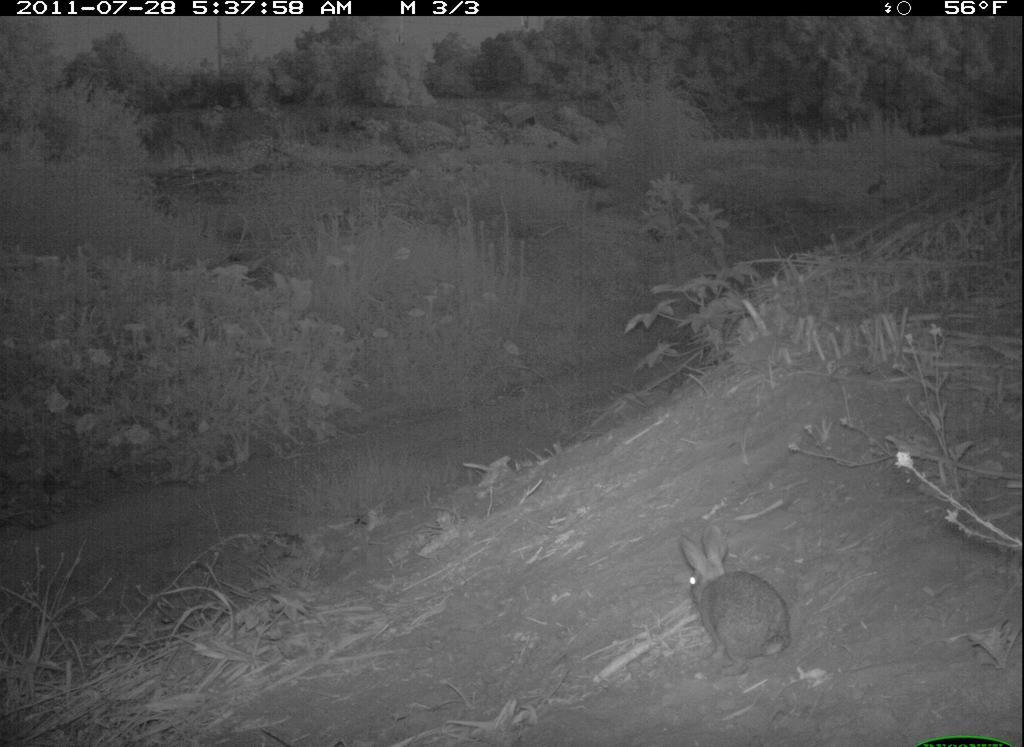rabbit: (667, 520, 801, 684)
